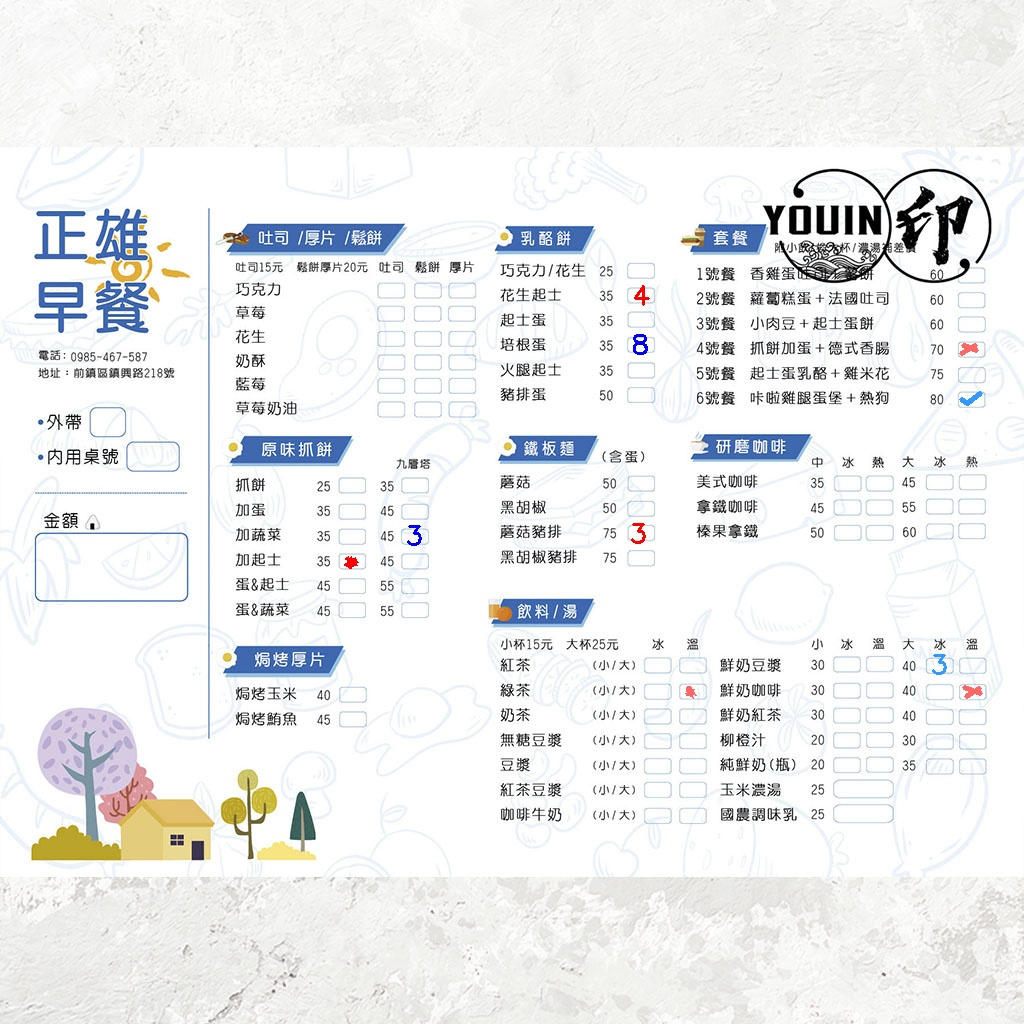marked_circle: (678, 686, 704, 700), (337, 554, 363, 568)
marked_number_3: (926, 657, 952, 671), (625, 526, 651, 540), (401, 528, 427, 542)
marked_number_4: (628, 288, 654, 302)
marked_number_8: (627, 337, 653, 351)
marked_tick: (958, 391, 984, 405)
marked_x: (960, 684, 986, 698), (957, 341, 983, 355)
